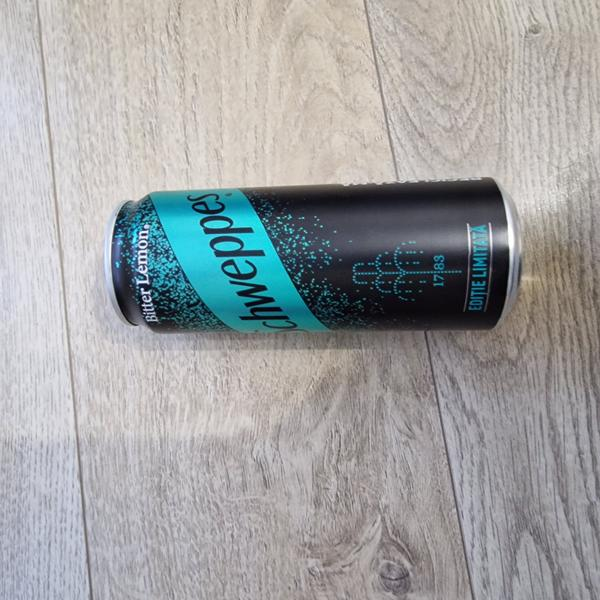can: (103, 176, 523, 334)
